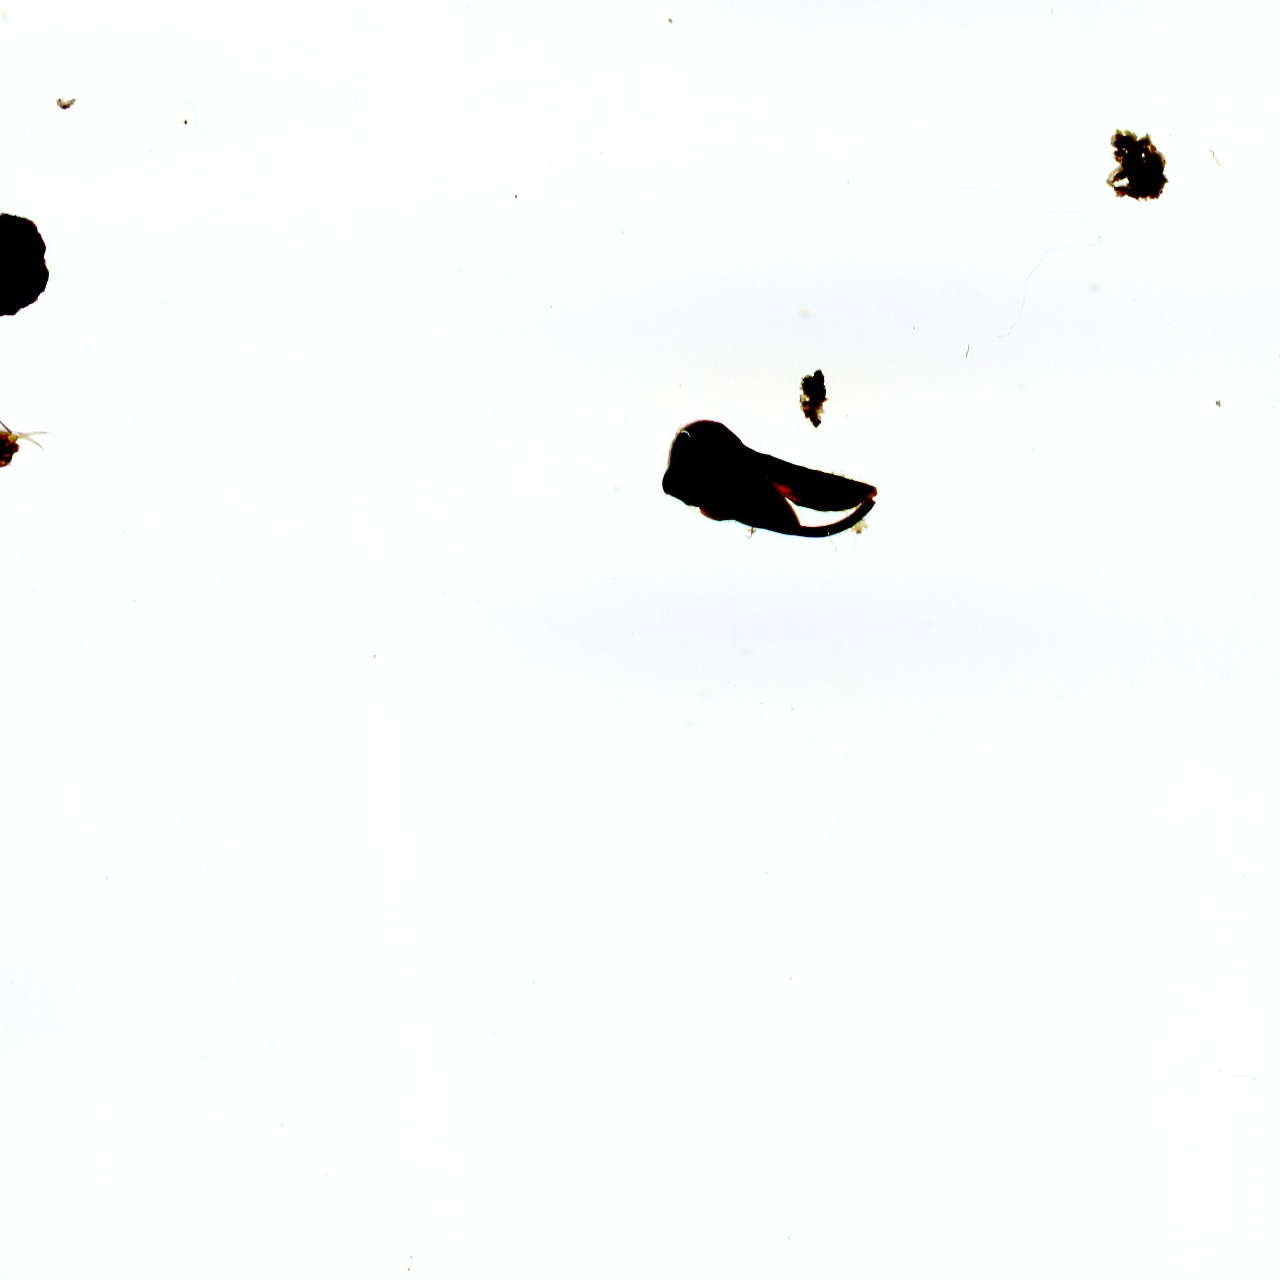arthropod: (0, 389, 63, 482)
